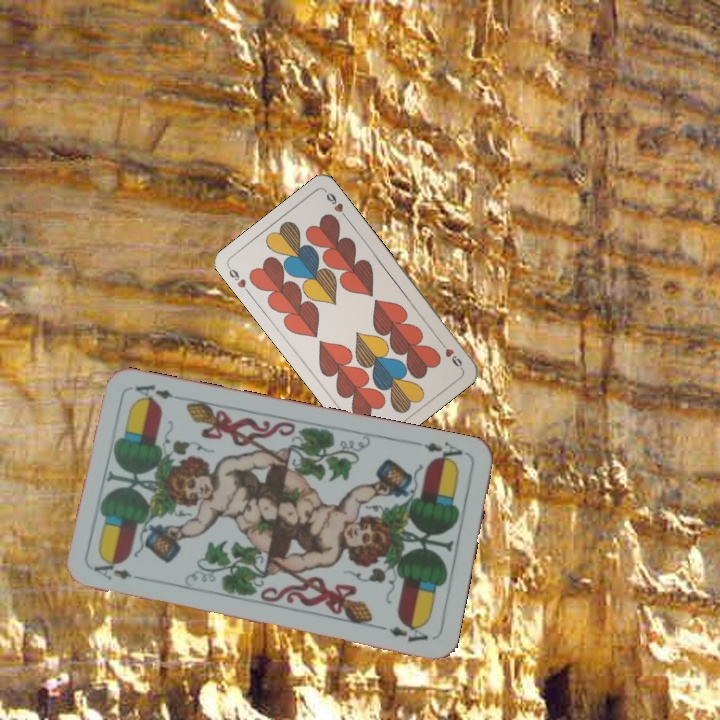EA: (411, 437, 465, 468), (90, 560, 148, 583)
H9: (224, 263, 253, 298), (436, 337, 465, 371)
